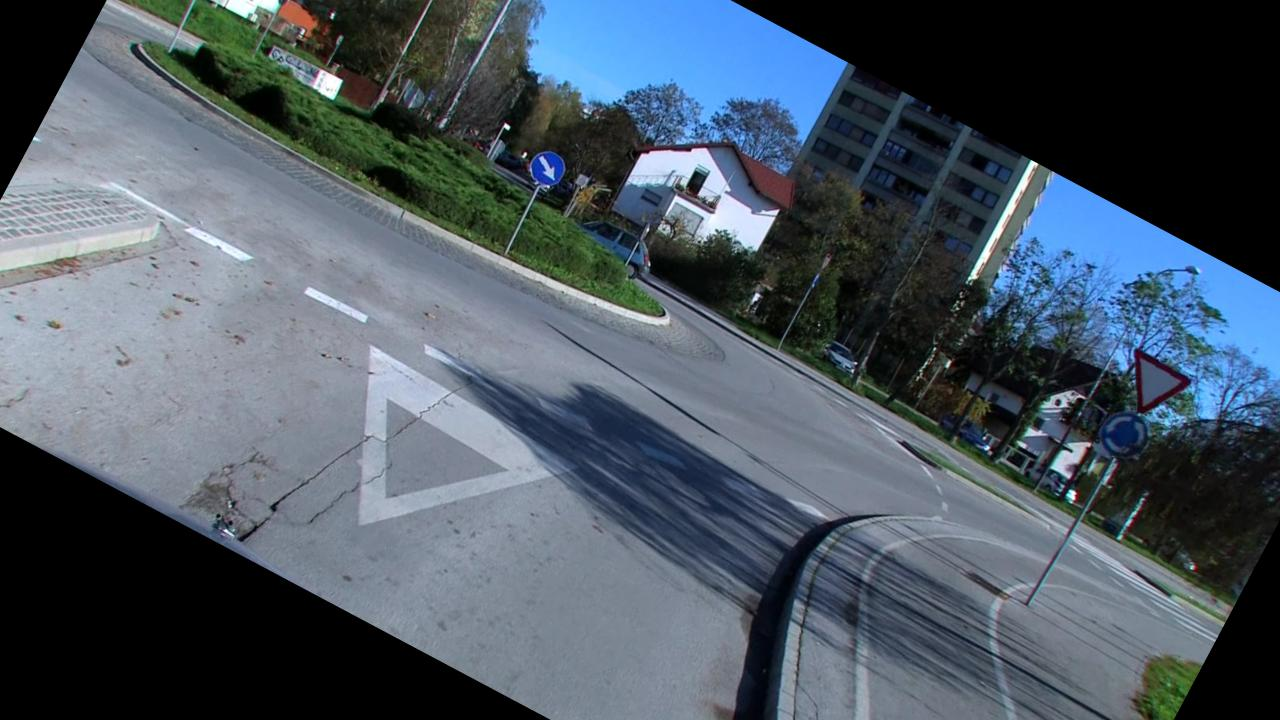Round: (1090, 403, 1156, 468), (522, 146, 571, 194)
Triangle: (1110, 344, 1198, 429)
